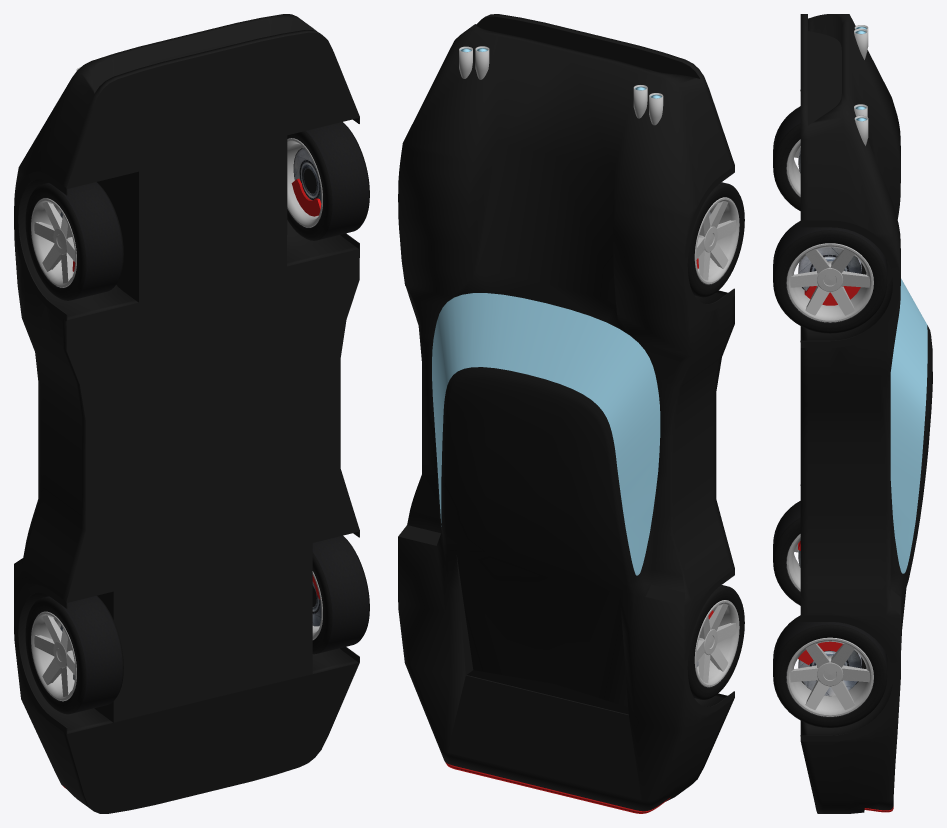
File: car.fbx
3 views of the same model, side by side, from view 1: azimuth 30°, elevation 25°; view 2: azimuth 150°, elevation 25°; view 3: azimuth 270°, elevation 25° (orthographic). The views are drawn at different scales.
Visible parts, largest first — view 1: new_body_work, tire FR, tire RR, tire FL, tire RL, rim spikes FR, rim spikes RR, rim base RR, rim base FR, rim base FL, brake disk FL; view 2: new_body_work, glass_front, tire FR, tire RR, headlights, rim spikes RR, rim spikes FR, rim base FR, rim base RR, rear_lights; view 3: new_body_work, glass_front, tire FL, tire RL, grill_front, rim spikes FL, rim spikes RL, rim base RL, rim base FL, tire FR, tire RR, headlights (+8 smaller).
Boxes of the visible parts, bbox=[...] form: new_body_work: bbox=[14, 14, 359, 813]; tire FR: bbox=[25, 182, 123, 300]; tire RR: bbox=[25, 595, 123, 714]; tire FL: bbox=[287, 122, 369, 240]; tire RL: bbox=[312, 535, 369, 654]; rim spikes FR: bbox=[34, 202, 75, 283]; rim spikes RR: bbox=[34, 615, 75, 696]; rim base RR: bbox=[31, 611, 76, 701]; rim base FR: bbox=[31, 198, 76, 287]; rim base FL: bbox=[287, 138, 322, 227]; brake disk FL: bbox=[293, 148, 321, 202]; new_body_work: bbox=[398, 14, 734, 811]; glass_front: bbox=[432, 293, 660, 575]; tire FR: bbox=[687, 182, 744, 297]; tire RR: bbox=[687, 585, 744, 699]; headlights: bbox=[459, 46, 663, 125]; rim spikes RR: bbox=[696, 603, 736, 683]; rim spikes FR: bbox=[696, 201, 736, 280]; rim base FR: bbox=[694, 197, 739, 284]; rim base RR: bbox=[694, 600, 739, 687]; rear_lights: bbox=[445, 762, 670, 813]; new_body_work: bbox=[800, 14, 932, 813]; glass_front: bbox=[890, 278, 927, 573]; tire FL: bbox=[773, 221, 887, 333]; tire RL: bbox=[773, 615, 887, 727]; grill_front: bbox=[808, 31, 841, 125]; rim spikes FL: bbox=[790, 249, 869, 315]; rim spikes RL: bbox=[790, 643, 869, 710]; rim base RL: bbox=[786, 637, 873, 716]; rim base FL: bbox=[786, 243, 873, 322]; tire FR: bbox=[773, 106, 800, 210]; tire RR: bbox=[773, 501, 800, 605]; headlights: bbox=[854, 25, 868, 145].
Bounding box in the file's own units: 1.81 × 4.41 × 0.8957.
Materials: 8 (8 with a texture image).
